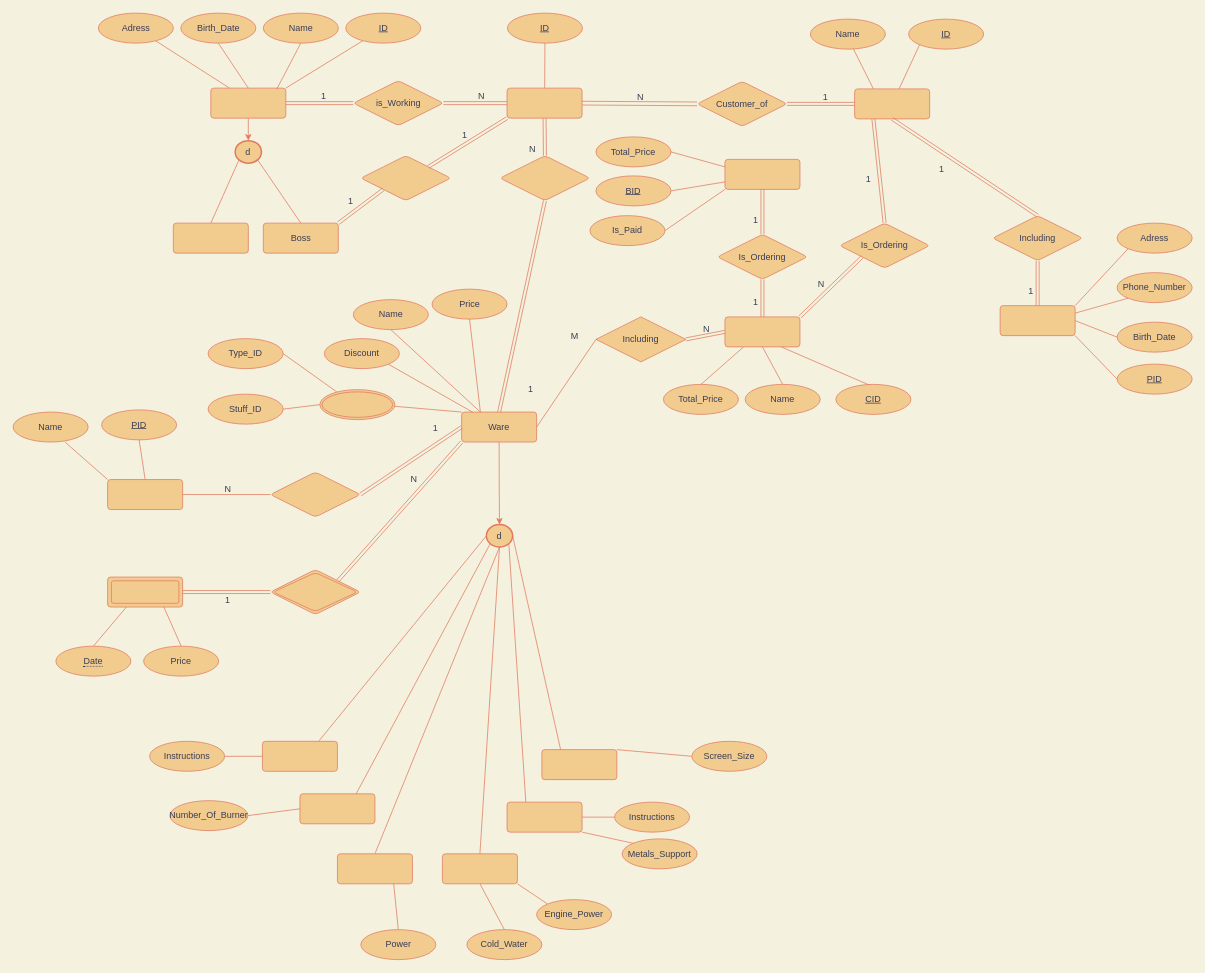
This 1205x973 diagram has some shape labels left out. The centre of each missing label's shape, as x and y in pixels:
"Bill" belongs at point (762, 174).
"Cart" belongs at point (762, 331).
"Customer" belongs at point (892, 103).
"Date_Price" belongs at point (145, 591).
"DishWasher" belongs at point (544, 816).
"Employee" belongs at point (248, 102).
"Have" belongs at point (315, 592).
"Include" belongs at point (544, 178).
"Laundry" belongs at point (479, 868).
"Manage" belongs at point (405, 178).
"Normal_Employee" belongs at point (210, 237).
"Profile" belongs at point (1037, 320).
"Provide" belongs at point (315, 494).
"Provider" belongs at point (145, 494).
"Solardom" belongs at point (299, 756).
"Store" belongs at point (544, 102).
"Stove" belongs at point (337, 808).
"Television" belongs at point (579, 764).
"VacuumCleaner" belongs at point (374, 868).
"WID" belongs at point (357, 404).
